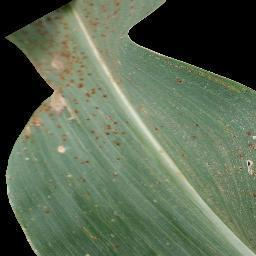Corn_Common_Rust: (4, 0, 160, 176), (211, 125, 256, 215), (174, 53, 250, 99), (72, 222, 132, 256), (181, 111, 212, 163), (76, 181, 105, 216), (146, 178, 176, 198), (39, 201, 62, 220)
